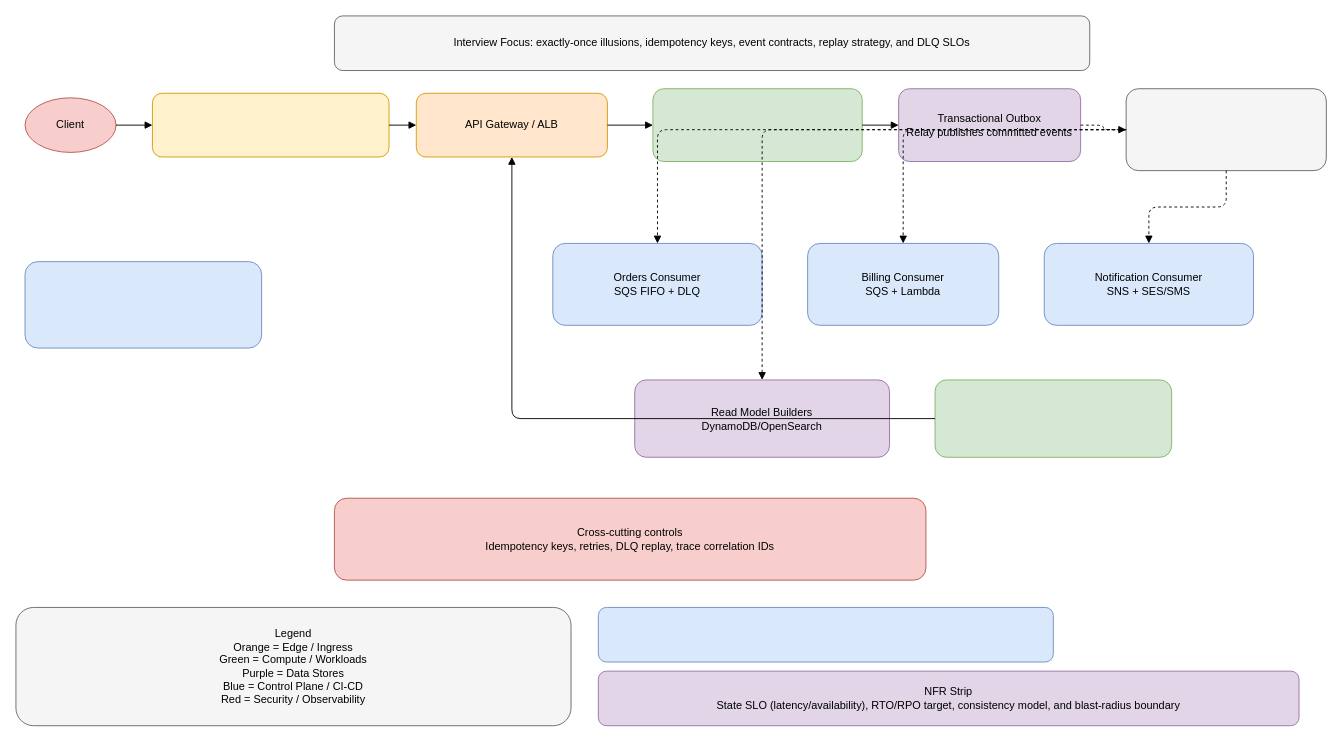
This 1342x742 diagram has some shape labels left out. Each missing label, with the box of its shape:
Command Service (ECS/EKS/Lambda): (652, 88, 862, 162)
EventBridge Bus Rules route versioned events: (1125, 88, 1326, 171)
GitHub Actions Contract tests + event schema checks: (24, 261, 262, 348)
Query API (CQRS read path): (934, 379, 1172, 457)
Route53 + CloudFront + WAF: (152, 92, 389, 157)
Trust Boundaries Internet -> Edge -> Private Compute -> Data Tier: (597, 607, 1053, 662)
